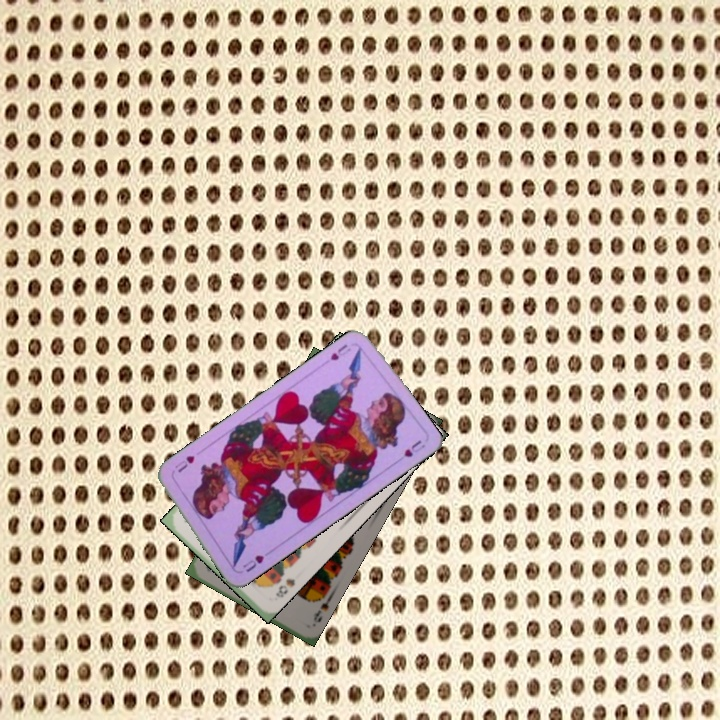HU: (239, 551, 266, 575), (326, 340, 354, 363)
S8: (272, 575, 298, 600)
S9: (309, 589, 335, 628)
